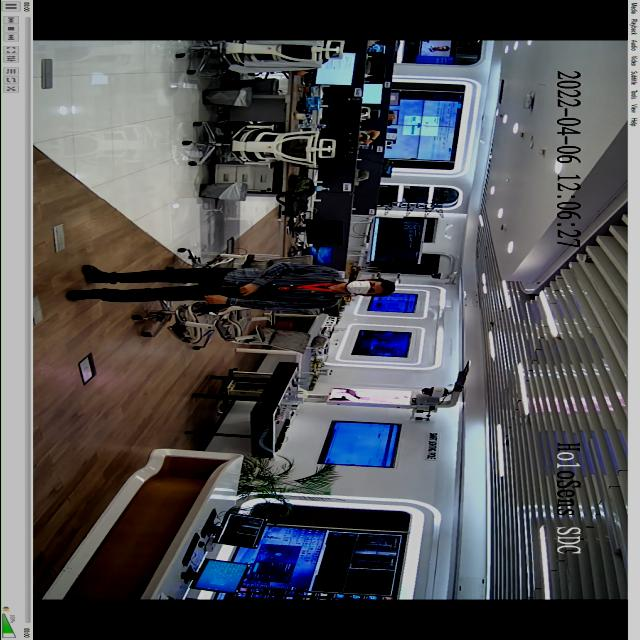long weapon: (190, 278, 286, 322)
